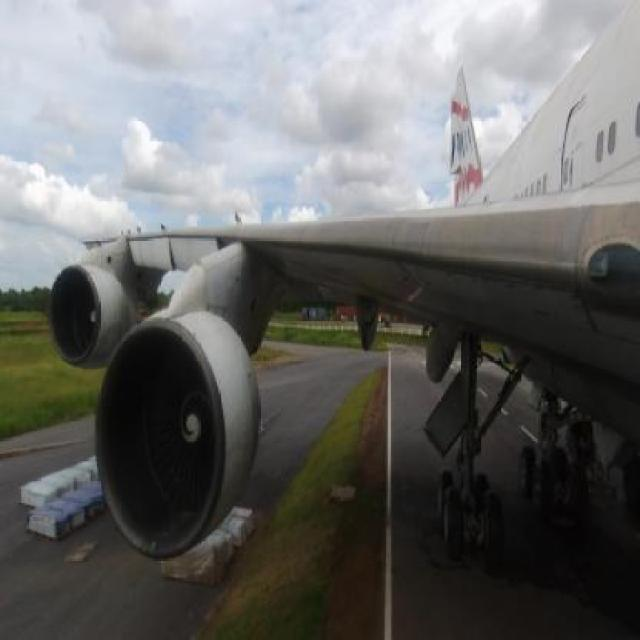Scartch: (430, 259, 576, 312)
